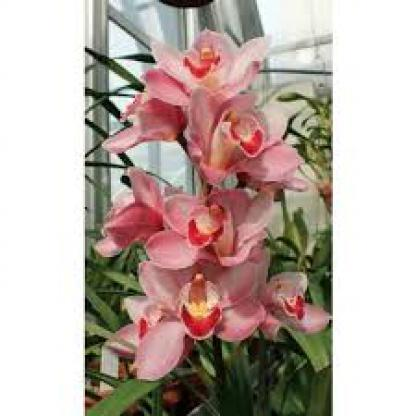ANGGREK: (101, 10, 324, 395)
